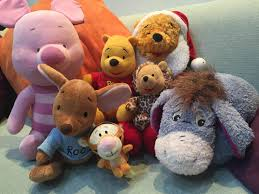Winnie: (97, 35, 140, 89)
